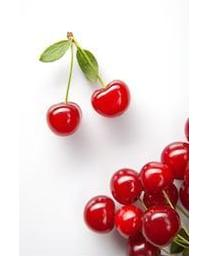cherry: (89, 81, 132, 118), (143, 205, 180, 246), (47, 101, 81, 137), (110, 168, 143, 205), (139, 161, 173, 195), (85, 196, 114, 234), (161, 142, 188, 181), (115, 204, 141, 237)
